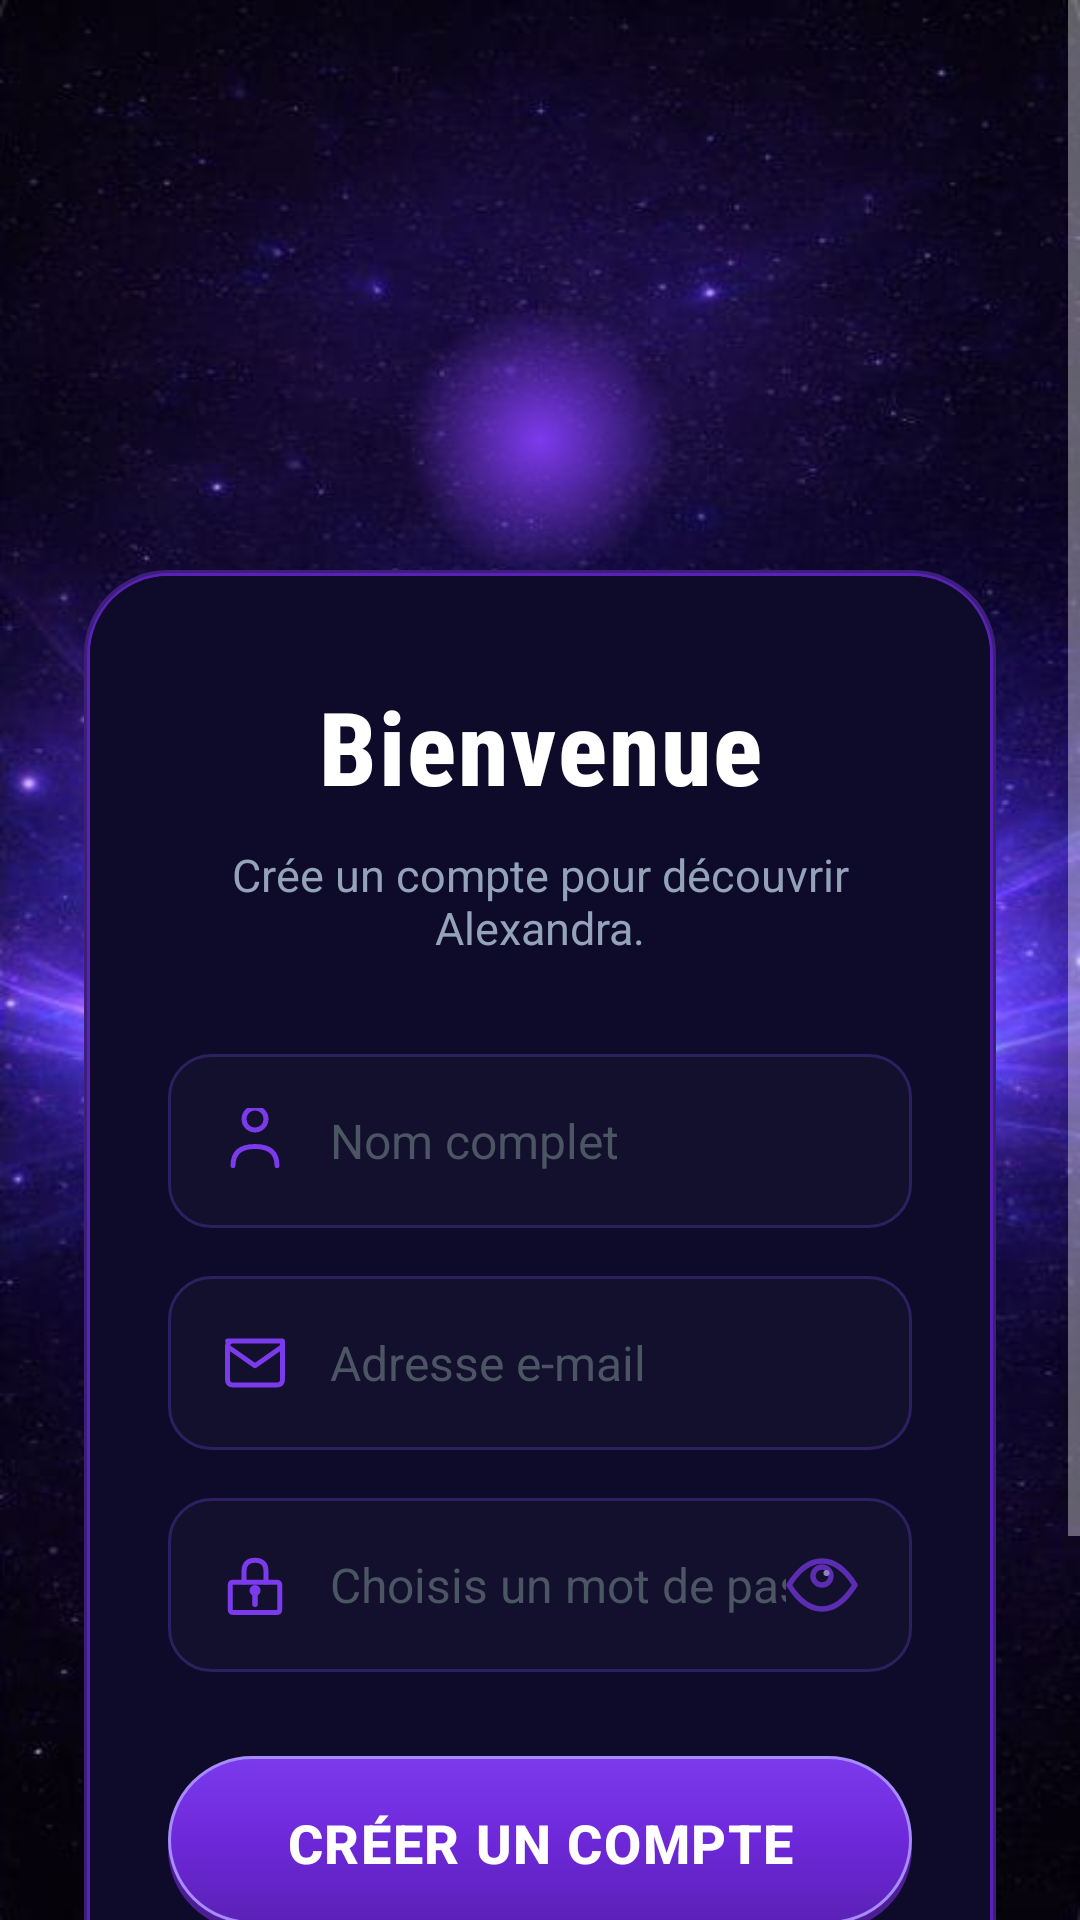

Icons on this 1080 x 1920 Android screen, each with the point to tap as (x,y):
email field: (255,1363)
eye field: (822,1585)
lock field: (255,1586)
person field: (255,1138)
